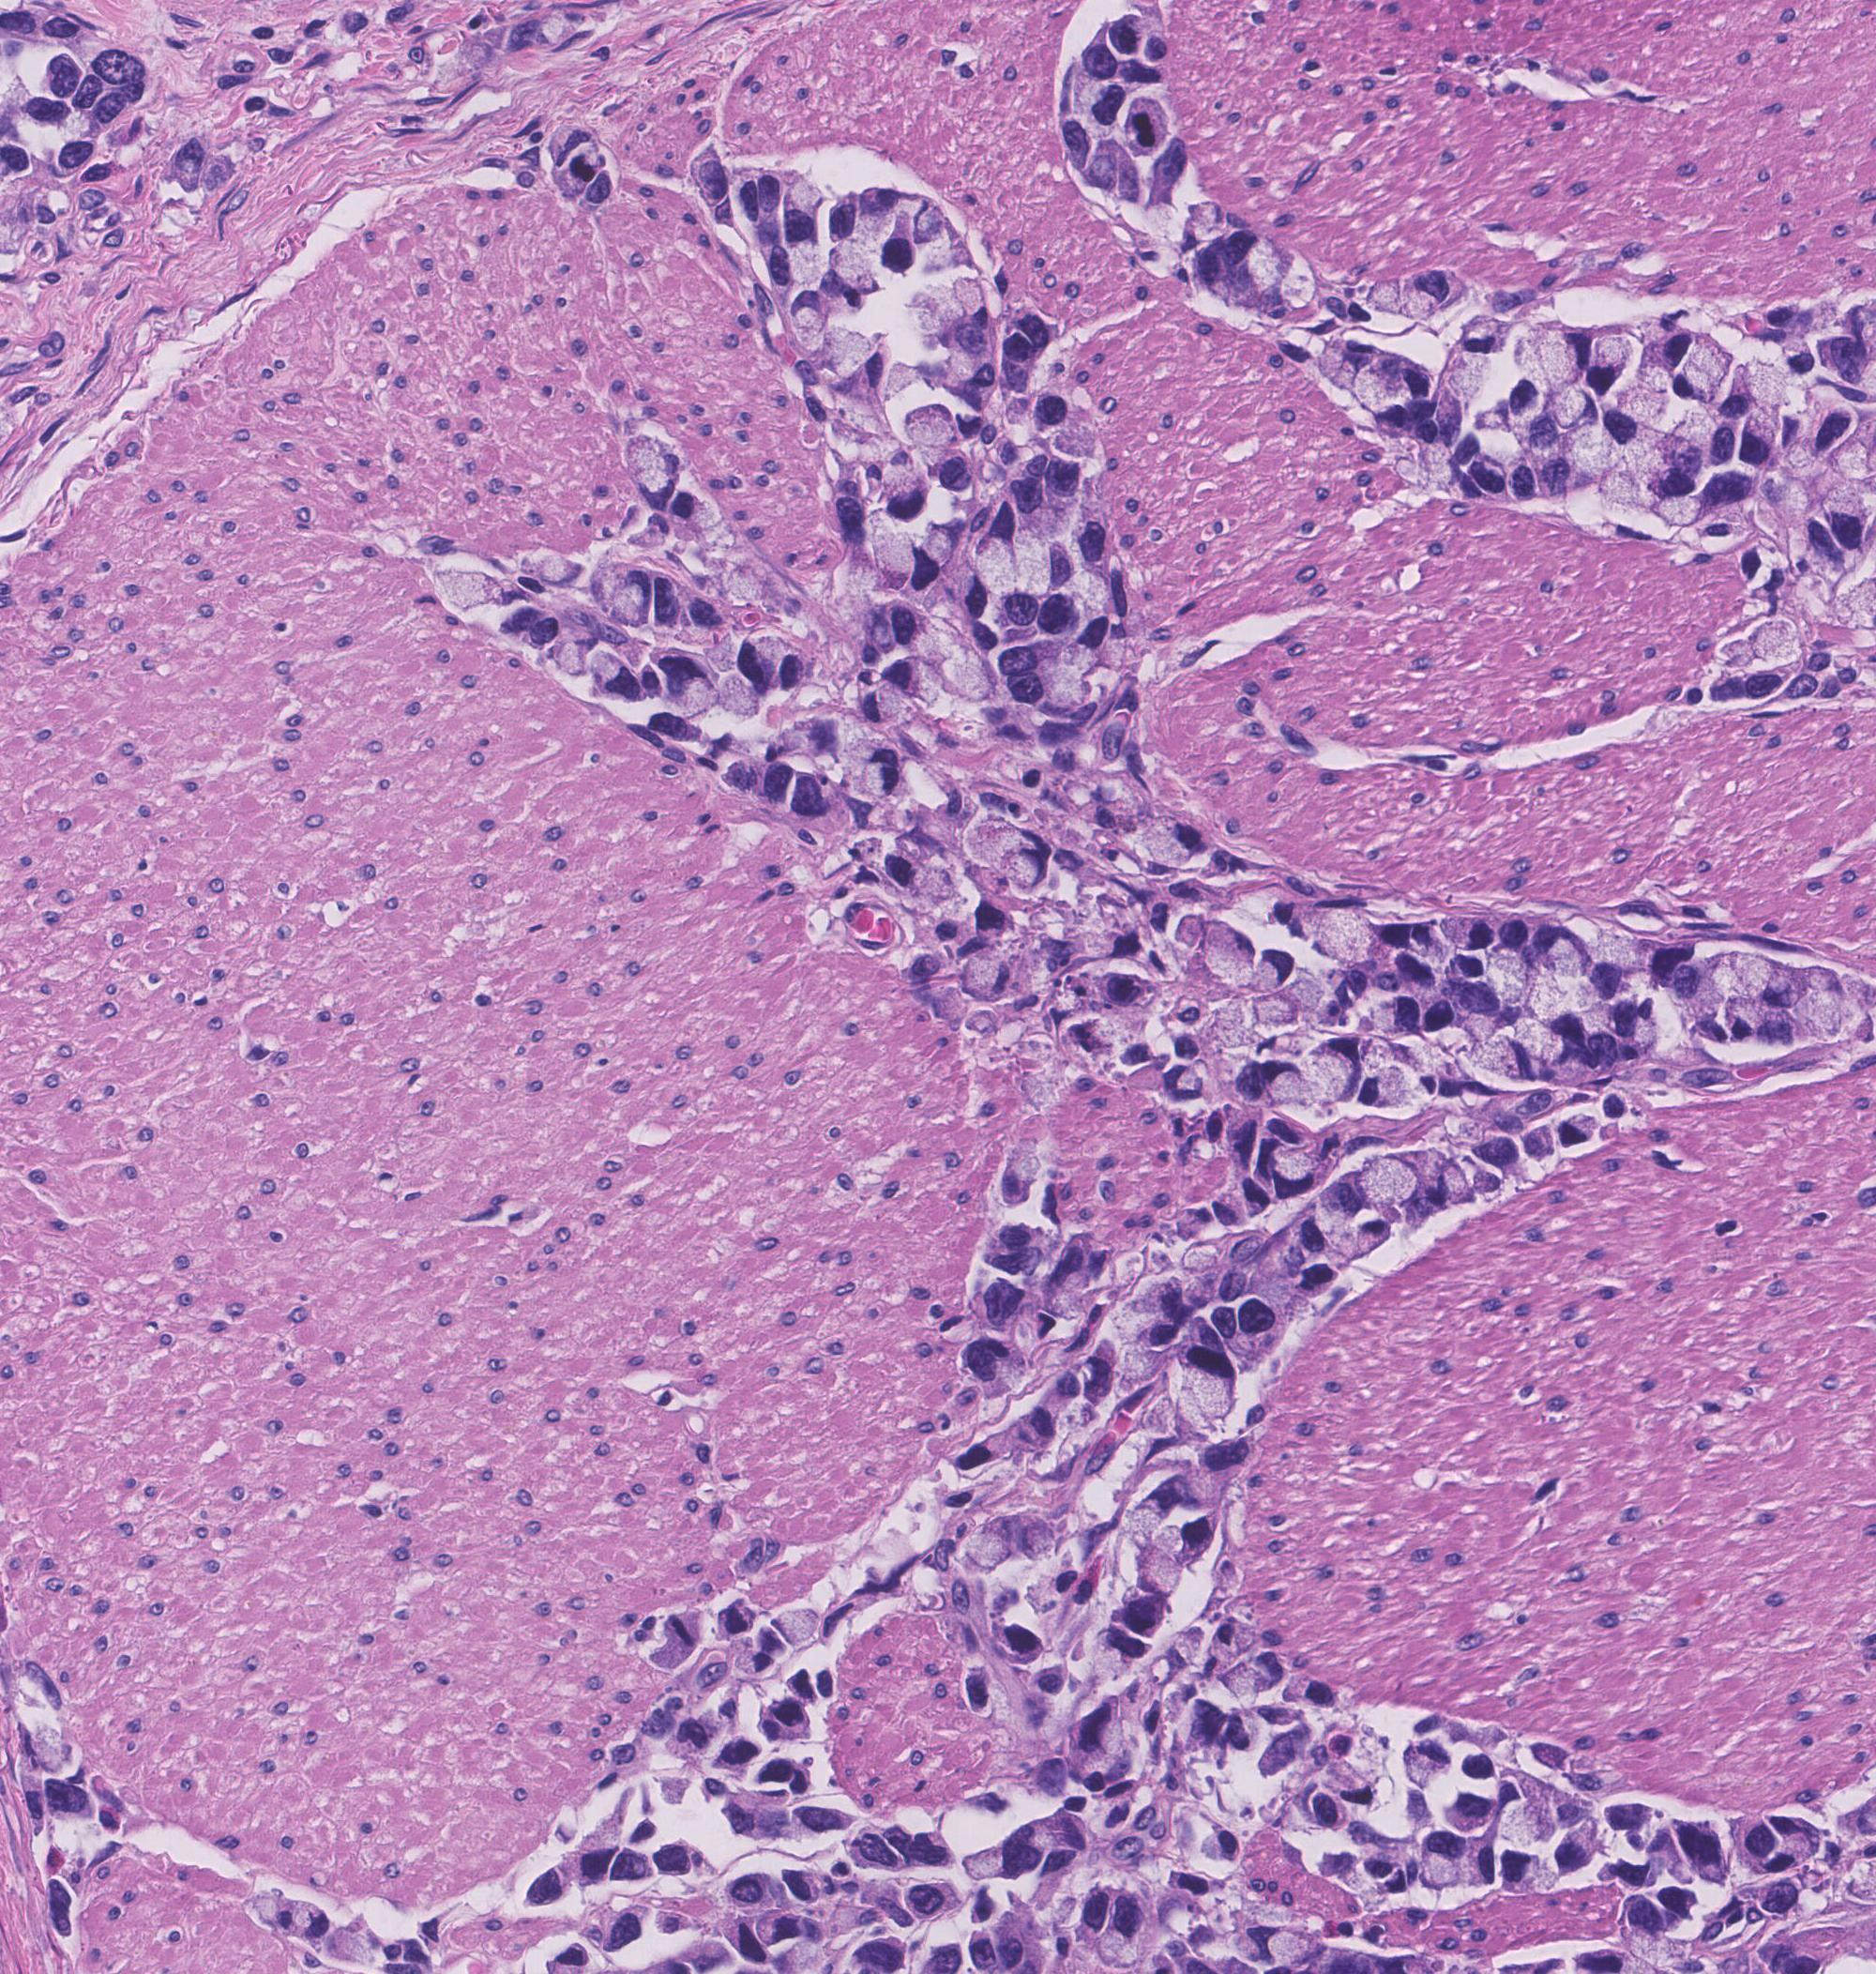ring_cell_cancer: (1349, 1158, 1432, 1228), (618, 427, 680, 513), (914, 405, 972, 495), (964, 811, 1055, 867), (1728, 952, 1813, 1010), (960, 1828, 1045, 1884), (840, 735, 911, 802), (1178, 1347, 1235, 1428), (657, 643, 719, 717), (962, 1271, 1038, 1331), (1038, 1227, 1087, 1318), (1356, 354, 1434, 412), (590, 559, 654, 627), (870, 531, 941, 592), (986, 550, 1036, 636), (1060, 1696, 1122, 1764), (981, 495, 1022, 599), (1538, 321, 1591, 397), (1134, 820, 1212, 871), (1203, 911, 1258, 983), (1092, 975, 1161, 1031), (1531, 913, 1591, 976), (1661, 955, 1719, 1020), (1471, 1028, 1538, 1084), (1677, 1810, 1725, 1889), (886, 848, 955, 902), (1770, 1805, 1825, 1874), (1520, 1778, 1596, 1828), (1675, 335, 1728, 405), (643, 1609, 706, 1667), (560, 1819, 617, 1884), (891, 805, 958, 860), (1742, 622, 1813, 673), (823, 245, 881, 307), (930, 568, 992, 626), (962, 1339, 1023, 1398), (437, 571, 528, 610), (1402, 268, 1469, 321), (784, 182, 821, 277), (1723, 1807, 1781, 1866), (1314, 909, 1377, 964), (1592, 326, 1640, 398), (1633, 932, 1691, 991), (1534, 1012, 1591, 1072), (1193, 1435, 1252, 1491), (879, 449, 928, 516), (1268, 1139, 1326, 1195), (587, 649, 648, 701), (1023, 534, 1076, 596), (784, 287, 835, 351), (1652, 425, 1709, 481), (733, 638, 784, 700), (978, 700, 1039, 751), (993, 1135, 1036, 1209), (1399, 1734, 1453, 1791), (964, 1514, 1016, 1572), (1645, 317, 1698, 375), (824, 488, 870, 555), (870, 601, 932, 650), (1379, 948, 1448, 992), (1813, 397, 1858, 462), (1194, 1616, 1259, 1662), (1548, 1819, 1603, 1874), (1606, 409, 1658, 467), (1076, 578, 1113, 657), (1249, 1061, 1311, 1109), (1499, 1845, 1554, 1898), (1612, 1893, 1665, 1948), (1252, 1720, 1304, 1777), (1129, 1480, 1187, 1530), (1078, 85, 1127, 143), (886, 1828, 956, 1868), (1092, 1623, 1152, 1671), (999, 670, 1075, 707), (772, 723, 844, 761), (964, 948, 1018, 999), (948, 275, 997, 331), (1279, 1669, 1344, 1711), (1740, 1881, 1811, 1919), (1471, 1121, 1524, 1172), (856, 679, 911, 728), (1221, 1105, 1258, 1177), (1073, 504, 1112, 573), (1788, 1003, 1848, 1047), (842, 1826, 902, 1870), (1036, 1810, 1096, 1854), (1284, 1209, 1335, 1260), (1592, 927, 1628, 1001), (1828, 483, 1865, 553), (791, 767, 838, 821), (1249, 939, 1296, 994), (1133, 1542, 1180, 1597), (1325, 330, 1363, 397), (972, 895, 1029, 941), (668, 1706, 713, 1762), (1316, 1043, 1355, 1109), (1425, 1824, 1464, 1889), (1363, 1057, 1413, 1109), (1763, 471, 1813, 522), (1034, 390, 1089, 435), (669, 488, 715, 543), (1219, 226, 1265, 280), (1036, 585, 1080, 642), (692, 139, 729, 206), (532, 548, 590, 590), (648, 707, 708, 747), (1127, 1273, 1187, 1313), (1127, 99, 1168, 159), (1441, 1794, 1494, 1840), (1238, 1299, 1281, 1355), (1152, 137, 1182, 217), (1171, 1512, 1221, 1560), (1217, 1660, 1267, 1708), (1205, 1815, 1252, 1865), (884, 659, 937, 703), (992, 1623, 1046, 1666), (1740, 402, 1774, 471), (983, 1218, 1048, 1253), (171, 130, 206, 196), (1189, 1701, 1230, 1757), (1437, 913, 1499, 950), (1069, 927, 1145, 957), (544, 125, 602, 164), (1372, 994, 1423, 1038), (1001, 642, 1067, 675), (1008, 310, 1060, 352), (685, 592, 738, 634), (1721, 358, 1756, 421), (650, 573, 687, 633), (904, 1882, 964, 1919), (1018, 1507, 1057, 1563), (759, 1704, 816, 1743), (1492, 908, 1538, 955), (1182, 1315, 1228, 1362), (713, 1729, 759, 1777), (1002, 846, 1046, 895), (410, 1916, 483, 1946), (1800, 959, 1843, 1010), (1124, 1588, 1166, 1639), (1777, 328, 1820, 379), (282, 1900, 335, 1941), (853, 344, 884, 411), (1594, 1854, 1661, 1886), (1698, 474, 1758, 509), (1591, 998, 1635, 1045), (555, 153, 604, 196), (1557, 388, 1599, 437), (1103, 1833, 1159, 1870), (255, 1886, 298, 1935), (509, 610, 560, 650), (861, 183, 893, 249), (1723, 994, 1762, 1047), (1746, 666, 1800, 703), (1168, 1202, 1222, 1239), (1117, 1317, 1180, 1348), (1076, 802, 1140, 834), (752, 1914, 816, 1946), (1457, 982, 1504, 1024), (1050, 456, 1083, 516), (772, 1607, 821, 1648), (90, 49, 146, 85), (728, 1870, 784, 1905), (927, 515, 965, 566), (1647, 462, 1698, 501), (1652, 1881, 1703, 1919), (796, 1803, 858, 1835), (1825, 331, 1869, 375), (1302, 1789, 1346, 1833), (557, 631, 599, 677), (1094, 710, 1129, 765), (775, 1866, 824, 1905), (611, 1842, 655, 1884), (1316, 1724, 1358, 1768), (1115, 56, 1168, 92), (1429, 1163, 1469, 1209), (1467, 1831, 1497, 1893), (1760, 1003, 1798, 1050), (1341, 1221, 1395, 1255), (599, 1909, 648, 1946), (916, 197, 951, 249), (1090, 141, 1126, 192), (1459, 319, 1510, 354), (1082, 1884, 1112, 1944), (1164, 1870, 1224, 1900), (888, 213, 916, 277), (516, 1874, 572, 1905), (821, 1903, 884, 1932), (953, 613, 993, 657), (1518, 412, 1564, 451), (197, 152, 236, 197), (1113, 1889, 1147, 1942), (1038, 1366, 1075, 1414), (1603, 1801, 1658, 1833), (1688, 516, 1753, 543), (1198, 241, 1231, 293), (724, 1798, 763, 1842), (715, 1602, 763, 1637), (56, 139, 97, 180), (652, 1840, 696, 1877), (930, 991, 974, 1028), (1330, 969, 1376, 1005), (88, 92, 134, 127), (951, 321, 990, 361), (631, 509, 669, 550), (1471, 455, 1508, 497), (1214, 1186, 1249, 1230), (1222, 1232, 1270, 1264), (965, 1664, 997, 1711), (830, 194, 858, 247), (1298, 1264, 1341, 1299), (757, 760, 789, 805), (1540, 453, 1571, 499), (779, 1667, 817, 1704), (777, 649, 812, 689), (1221, 1255, 1251, 1302), (1092, 1339, 1113, 1406), (1506, 460, 1538, 504), (1002, 330, 1039, 367), (1557, 1116, 1598, 1149), (1023, 1410, 1052, 1458), (1185, 1239, 1219, 1278), (1185, 201, 1226, 233), (1762, 298, 1802, 330), (1707, 672, 1749, 701), (1180, 1274, 1217, 1308), (740, 164, 759, 227), (756, 171, 780, 220), (1175, 1033, 1214, 1063), (1038, 1851, 1076, 1881), (1069, 118, 1090, 173), (1358, 1851, 1399, 1879), (731, 1648, 777, 1673), (1032, 1664, 1067, 1696), (1520, 1130, 1554, 1161), (76, 70, 99, 115), (587, 171, 615, 206), (1798, 301, 1835, 328), (756, 1784, 793, 1810), (1214, 1308, 1237, 1350), (97, 1808, 125, 1838), (993, 435, 1018, 467), (1390, 1865, 1409, 1893)
